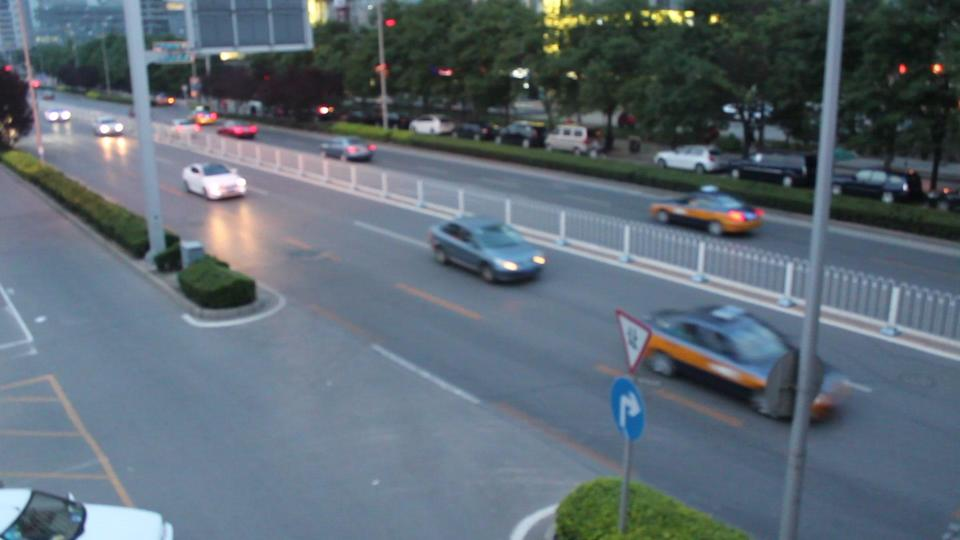Car: (636, 304, 843, 421), (1, 485, 171, 540), (429, 219, 540, 283), (651, 193, 759, 234), (180, 161, 246, 198), (321, 136, 372, 161), (219, 120, 255, 138)
